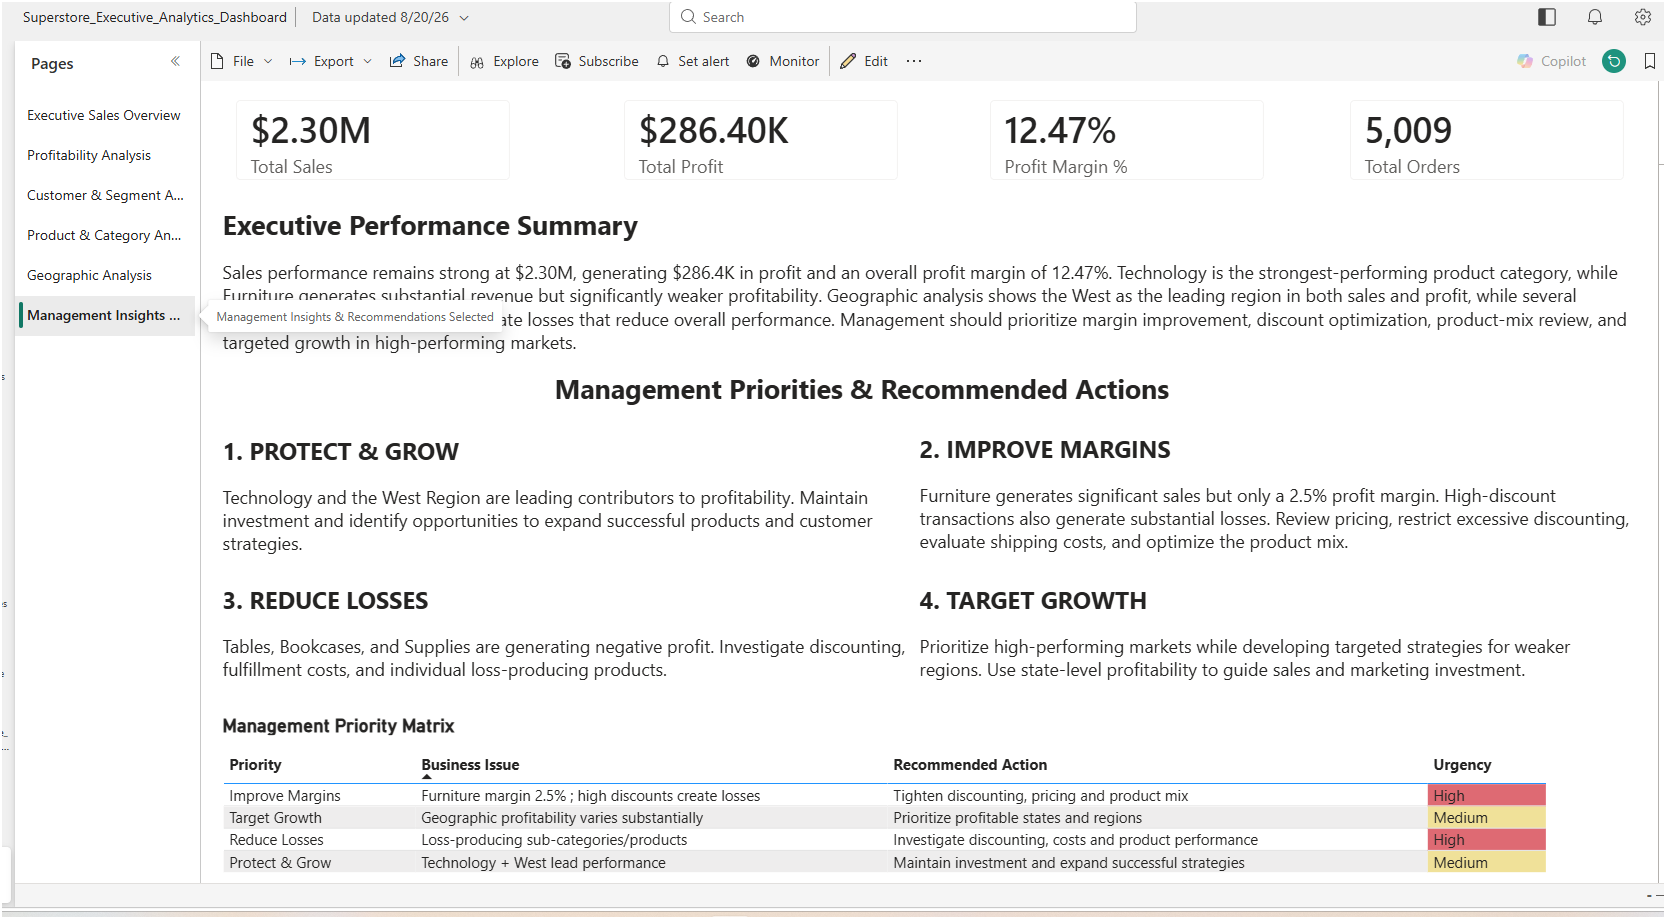

The dashboard page shown, as its layout file describes it:
{"tool":"powerbi","page":{"name":"Management Insights & Recommendations","canvas":[1280,720],"ordinal":5},"visuals":[{"type":"cardVisual","fields":{"Data":["sample_superstore_clean.Total Sales"]},"box":[0,0,280.1,107],"z":2},{"type":"cardVisual","fields":{"Data":["sample_superstore_clean.Total Orders"]},"box":[999.9,0,280.1,107],"z":3},{"type":"cardVisual","fields":{"Data":["sample_superstore_clean.Profit Margin %"]},"box":[677,0,280.1,107],"z":4},{"type":"cardVisual","fields":{"Data":["sample_superstore_clean.Total Profit"]},"box":[348.2,0,280.1,107],"z":5},{"type":"textbox","box":[0,107,1280,146.9],"z":6},{"type":"textbox","box":[0,312.2,628.3,134.2],"z":7},{"type":"textbox","box":[626,311,653.6,133.3],"z":8},{"type":"textbox","box":[0,446,628,122],"z":9},{"type":"textbox","box":[626,446,654,122],"z":10},{"type":"textbox","box":[297.6,253.9,656.5,57.4],"z":11},{"type":"tableEx","title":"Management Priority Matrix","fields":{"Values":["Management Priority Matrix.Priority","Management Priority Matrix.Business Issue","Management Priority Matrix.Recommended Action","Management Priority Matrix.Urgency"]},"box":[0,568,1280,152],"z":12}]}

Visuals, with their boxes on the page's 1280x720 design canvas (x1, y1, x2, y2). These are canvas units, not pixel positions in the 1666x919 screenshot, which may show the page scaled, cropped or inside an application window:
cardVisual - sample_superstore_clean.Total Sales: bbox=[0, 0, 280, 107]
cardVisual - sample_superstore_clean.Total Orders: bbox=[1000, 0, 1280, 107]
cardVisual - sample_superstore_clean.Profit Margin %: bbox=[677, 0, 957, 107]
cardVisual - sample_superstore_clean.Total Profit: bbox=[348, 0, 628, 107]
textbox: bbox=[0, 107, 1280, 254]
textbox: bbox=[0, 312, 628, 446]
textbox: bbox=[626, 311, 1280, 444]
textbox: bbox=[0, 446, 628, 568]
textbox: bbox=[626, 446, 1280, 568]
textbox: bbox=[298, 254, 954, 311]
"Management Priority Matrix" tableEx: bbox=[0, 568, 1280, 720]
